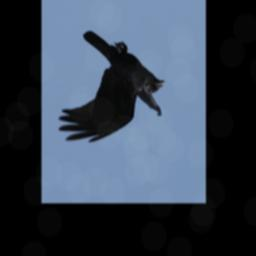Crow: (58, 30, 166, 144)
